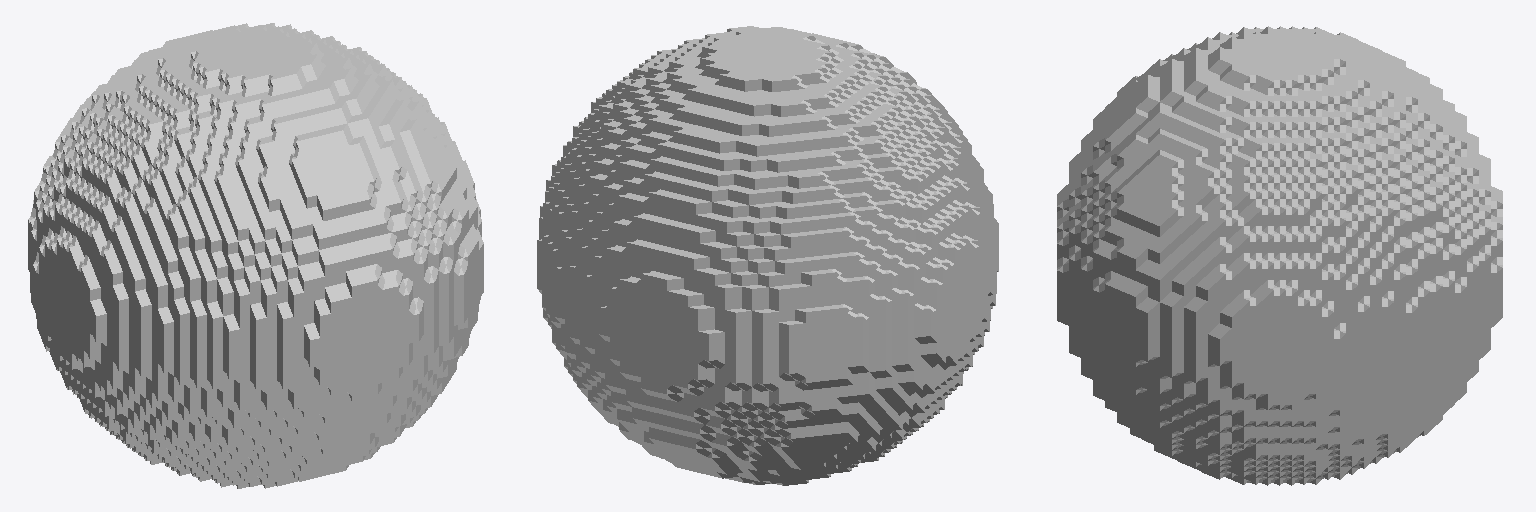
Rendered from MarchingCube.obj.
3 views of the same model, side by side, from view 1: azimuth 30°, elevation 25°; view 2: azimuth 150°, elevation 25°; view 3: azimuth 270°, elevation 25° (orthographic).
Parts seen in each view (by area): view 1: MarchingCube_1; view 2: MarchingCube_1; view 3: MarchingCube_1.
Part boxes in pixels (left/top/right/bottom): MarchingCube_1: left=28, top=23, right=483, bottom=488; MarchingCube_1: left=537, top=26, right=998, bottom=485; MarchingCube_1: left=1057, top=26, right=1502, bottom=485.
Bounding box in the file's own units: 1.48 × 1.48 × 1.48.